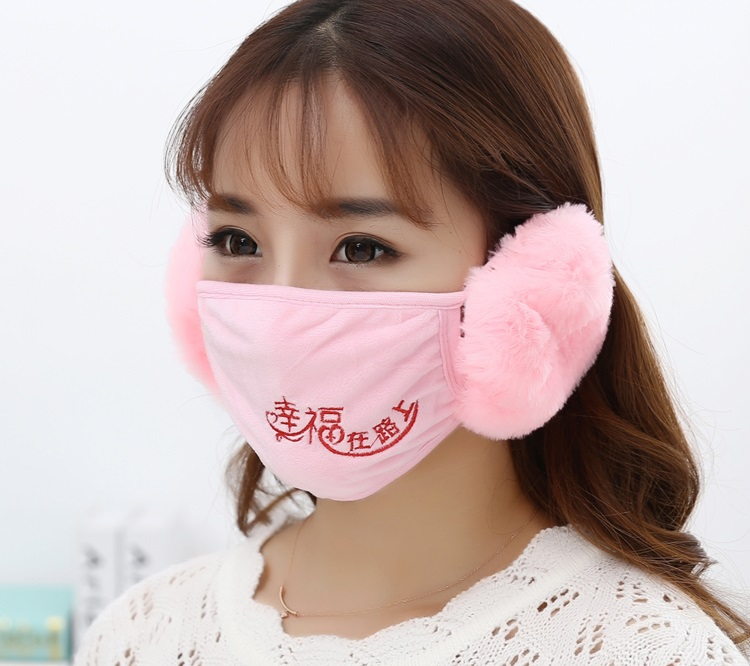face_mask: (185, 89, 481, 479)
